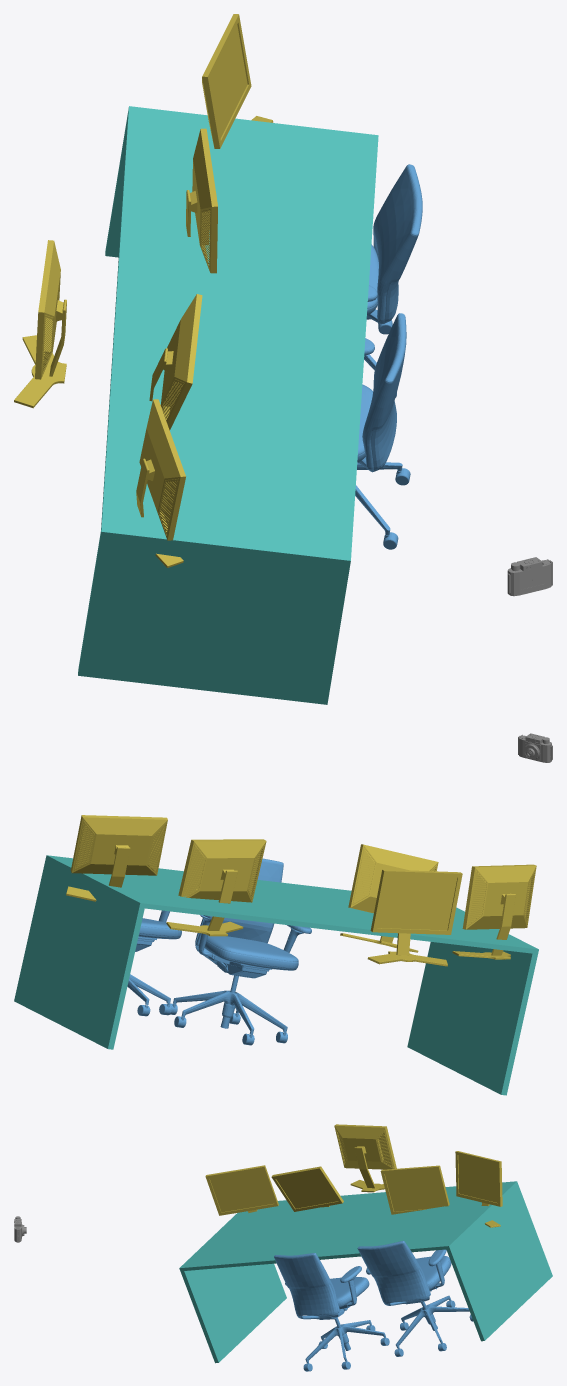
File: mesh_lab.glb
3 views of the same model, one above another, from view 1: azimuth 30°, elevation 25°; view 2: azimuth 150°, elevation 25°; view 3: azimuth 270°, elevation 25° (orthographic). The views are drawn at different scales.
Parts seen in each view (by area): view 1: world; view 2: world; view 3: world.
Boxes of the visible parts, x1,y1,x2,y2 form: world: (14,14,552,704); world: (14,733,552,1095); world: (14,1124,552,1371).
Size of the model in its own units: 2.1 by 1.94 by 3.83.
